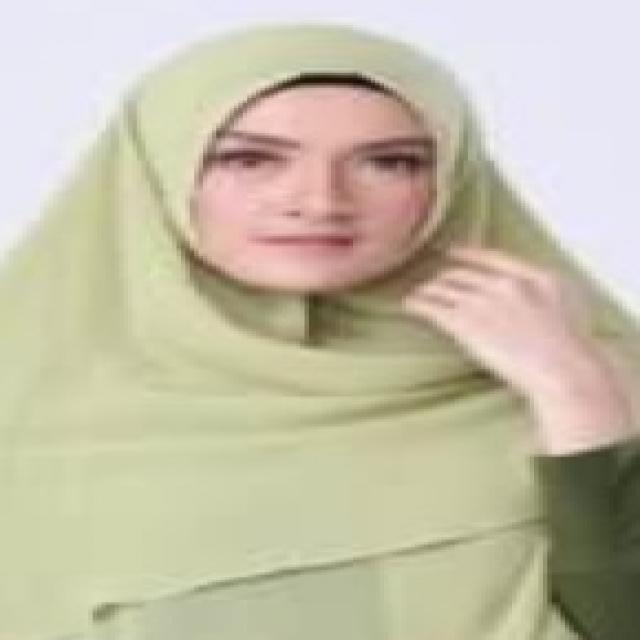head: (147, 21, 481, 304)
